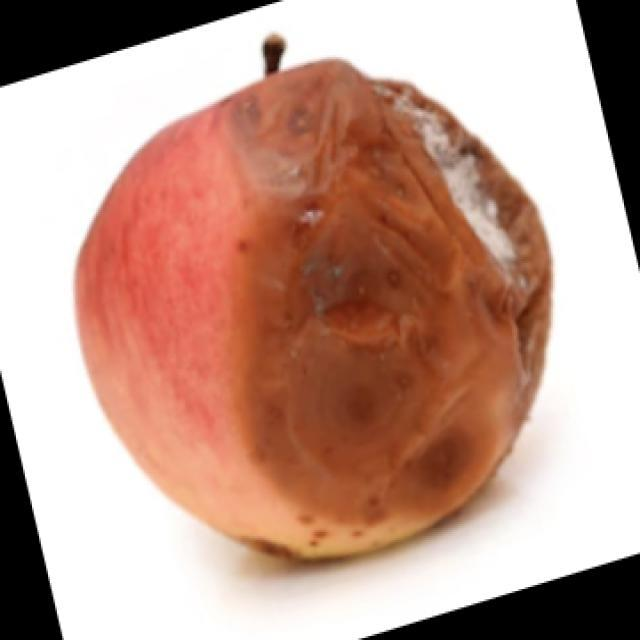Rotten: (60, 54, 542, 558)
